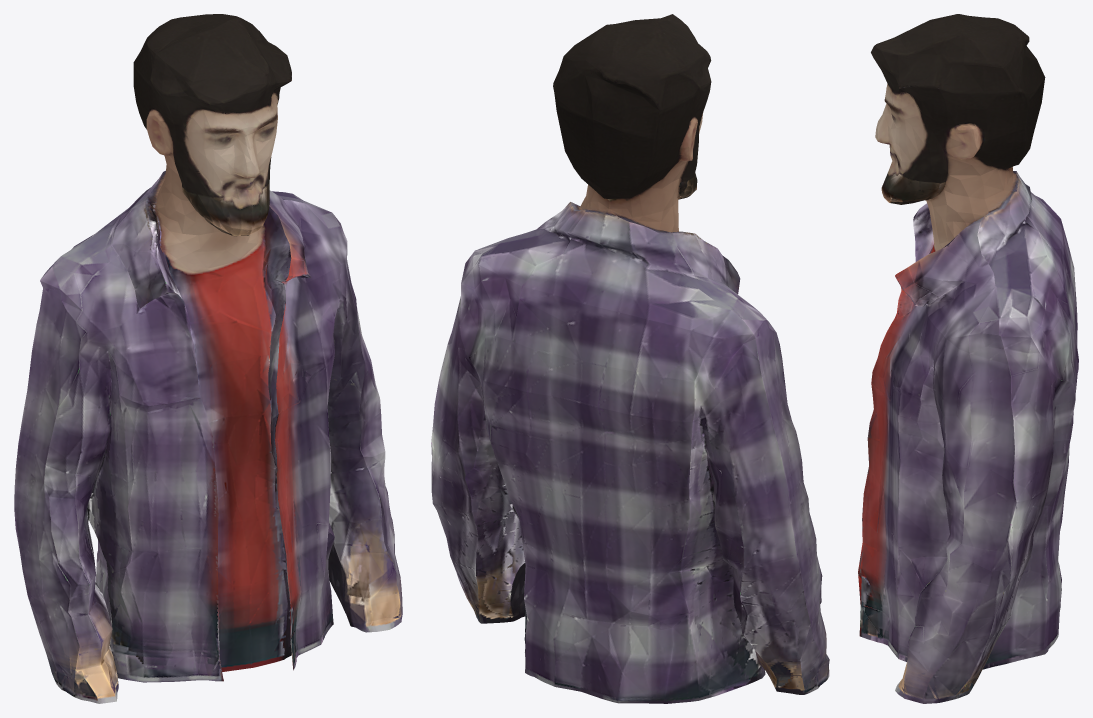
Rendered from _render.glb.
The picture shows the model from 3 angles, left to right: view 1: azimuth 30°, elevation 25°; view 2: azimuth 150°, elevation 25°; view 3: azimuth 270°, elevation 25°; orthographic projection. The views are drawn at different scales.
Parts seen in each view (by area): view 1: geometry_0; view 2: geometry_0; view 3: geometry_0.
Part boxes in pixels (box(x1,y1,x2,y2)): geometry_0: box(14, 14, 402, 703); geometry_0: box(431, 14, 829, 703); geometry_0: box(858, 14, 1078, 703).
Size of the model in its own units: 0.5061 by 0.8284 by 0.2754.
1 material, 1 textured.
